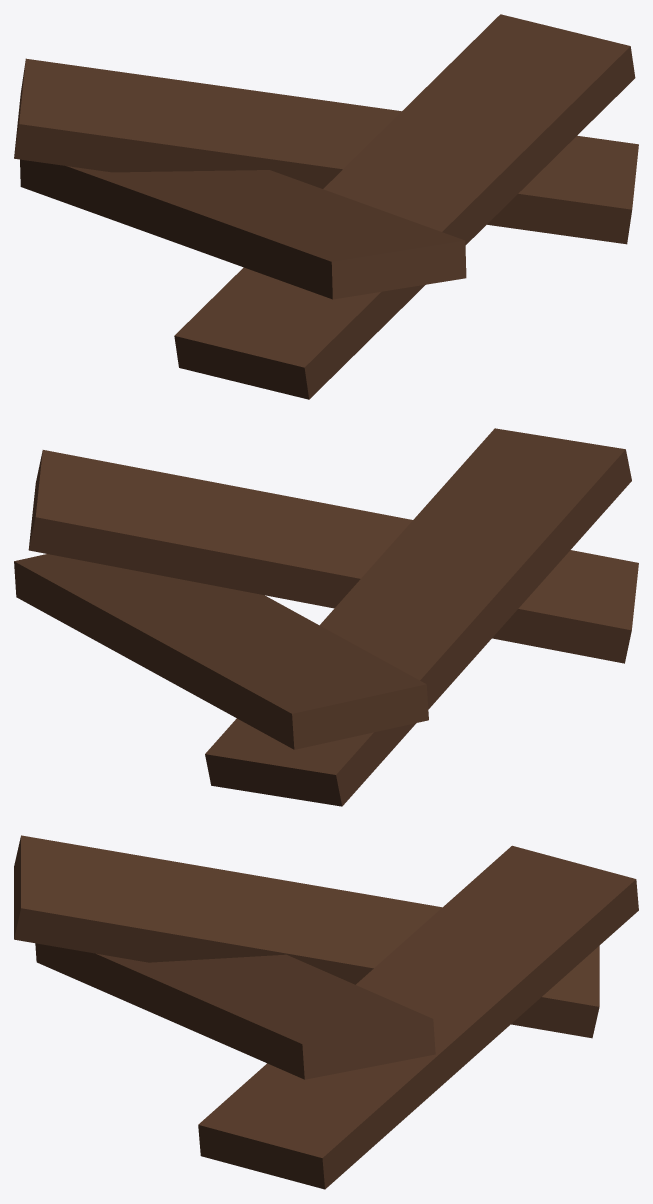
Rendered from firewood.fbx.
The picture shows the model from 3 angles, top to bottom: view 1: azimuth 30°, elevation 25°; view 2: azimuth 150°, elevation 25°; view 3: azimuth 270°, elevation 25°; orthographic projection. The views are drawn at different scales.
Visible parts, largest first — view 1: wood; view 2: wood; view 3: wood.
Part boxes in pixels (left/top/right/bottom): wood: left=14, top=14, right=638, bottom=399; wood: left=14, top=428, right=638, bottom=806; wood: left=14, top=835, right=638, bottom=1189.
Size of the model in its own units: 153 by 40.99 by 159.
